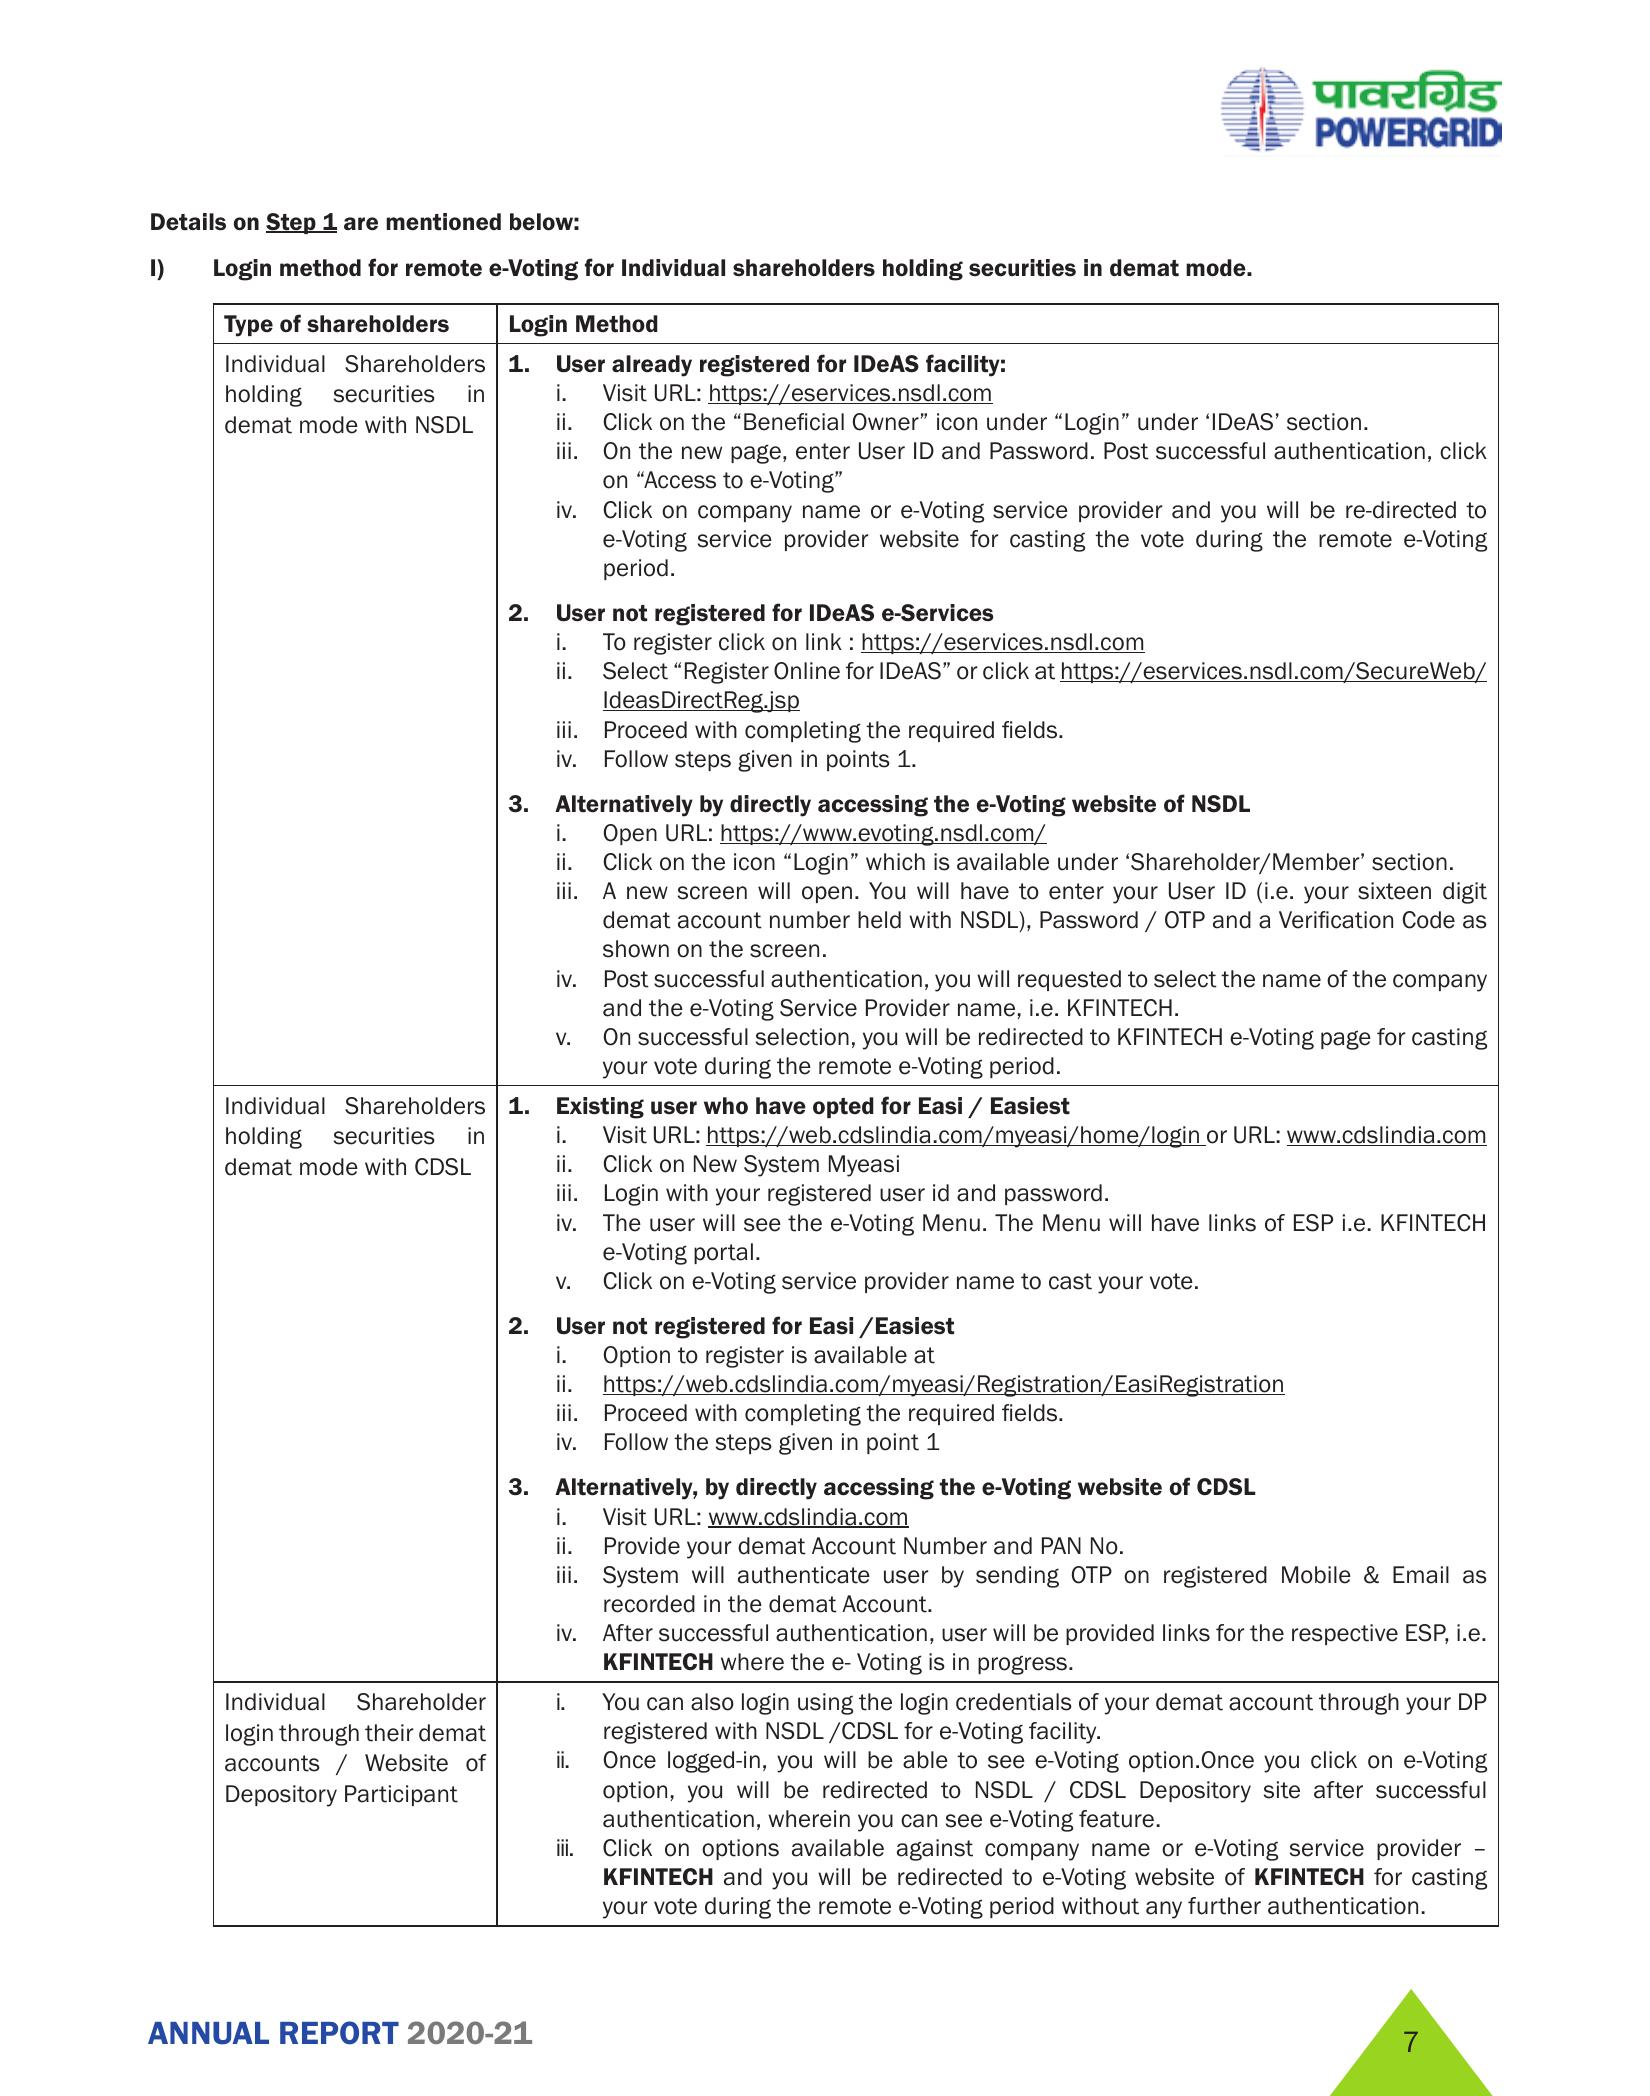Footer: (0, 1982, 1650, 2096)
Header: (0, 0, 1650, 184)
Table: (184, 289, 1539, 1956)
